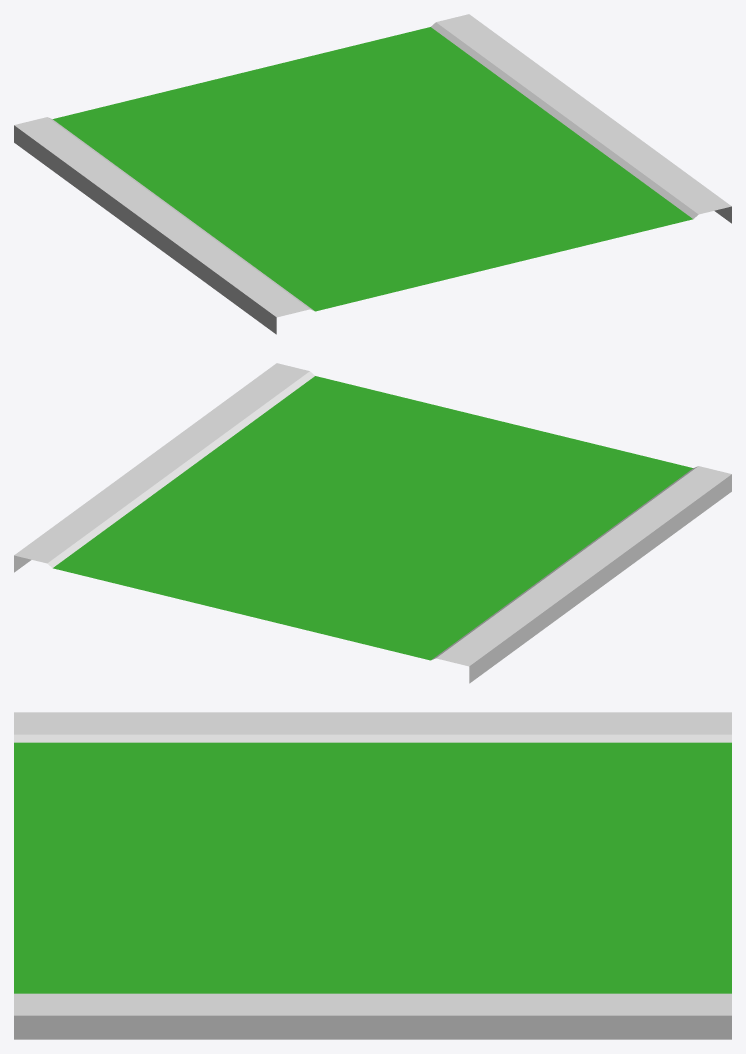
Rendered from GrassBed_1_B_7.fbx.
3 views of the same model, one above another, from view 1: azimuth 30°, elevation 25°; view 2: azimuth 150°, elevation 25°; view 3: azimuth 270°, elevation 25° (orthographic). The views are drawn at different scales.
Visible parts, largest first — view 1: GrassBed_1_B_7; view 2: GrassBed_1_B_7; view 3: GrassBed_1_B_7.
Part boxes in pixels (bbox=[...]): GrassBed_1_B_7: bbox=[14, 14, 731, 334]; GrassBed_1_B_7: bbox=[14, 363, 731, 683]; GrassBed_1_B_7: bbox=[14, 712, 731, 1039].
Bounding box in the file's own units: 200 × 7.32 × 200.
